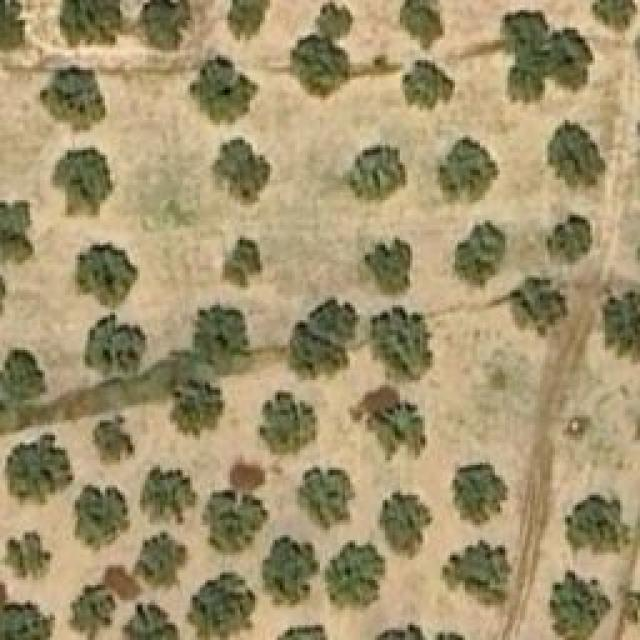Tree: (500, 10, 593, 105), (188, 55, 261, 128), (293, 298, 358, 378), (5, 435, 73, 508), (368, 305, 433, 380), (185, 572, 255, 640), (443, 540, 513, 605), (203, 487, 268, 555), (70, 483, 130, 556), (260, 535, 320, 608), (210, 138, 270, 208), (550, 570, 610, 640), (325, 540, 385, 610), (40, 68, 105, 131), (438, 135, 498, 203), (78, 245, 141, 308), (298, 468, 361, 531), (50, 145, 113, 208), (290, 35, 350, 100), (547, 123, 605, 188), (450, 463, 508, 528), (565, 495, 630, 553), (378, 492, 433, 560), (343, 142, 406, 200), (453, 222, 506, 290), (85, 315, 145, 375), (260, 393, 318, 453), (510, 278, 568, 338), (190, 305, 248, 365), (135, 533, 188, 596), (143, 465, 196, 523), (368, 408, 428, 458), (68, 582, 118, 640), (60, 0, 120, 48), (137, 0, 192, 52), (600, 293, 640, 363), (173, 380, 223, 435), (403, 60, 456, 108), (0, 348, 45, 403), (365, 240, 410, 295), (0, 530, 52, 577), (545, 213, 593, 263), (400, 0, 445, 50), (0, 600, 55, 640), (0, 199, 32, 262), (223, 238, 263, 288), (123, 605, 178, 640), (310, 0, 355, 40), (228, 0, 271, 40), (0, 0, 25, 58), (93, 422, 128, 460), (593, 0, 636, 25), (275, 622, 333, 640)
